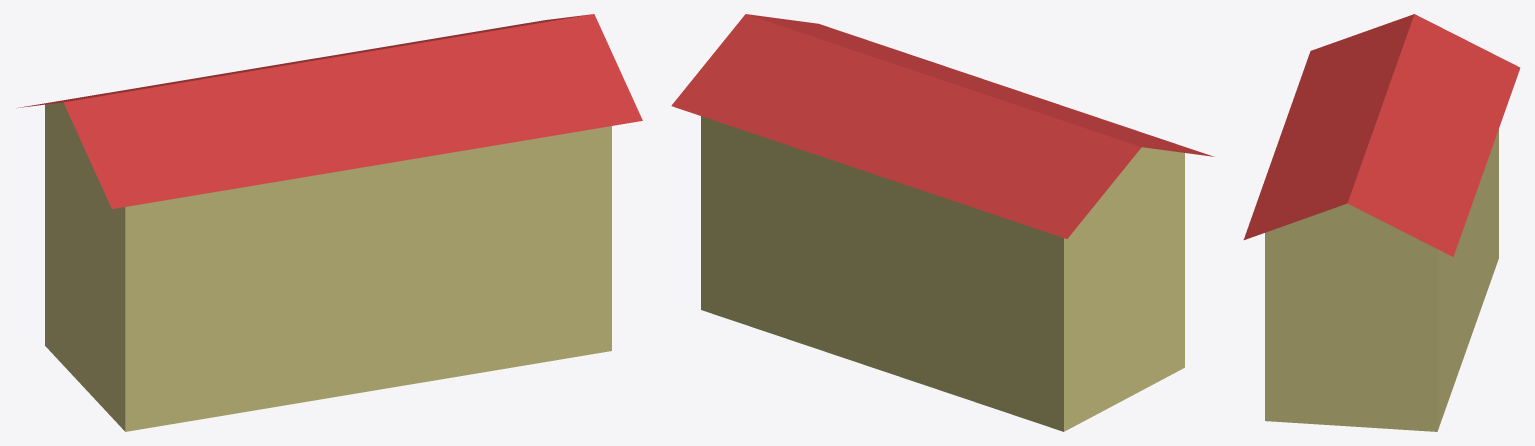
3 renders of one model, left to right at view 1: azimuth 30°, elevation 25°; view 2: azimuth 150°, elevation 25°; view 3: azimuth 270°, elevation 25°, orthographic. The views are drawn at different scales.
Size of the model in its own units: 12.66 by 7.31 by 6.72.
